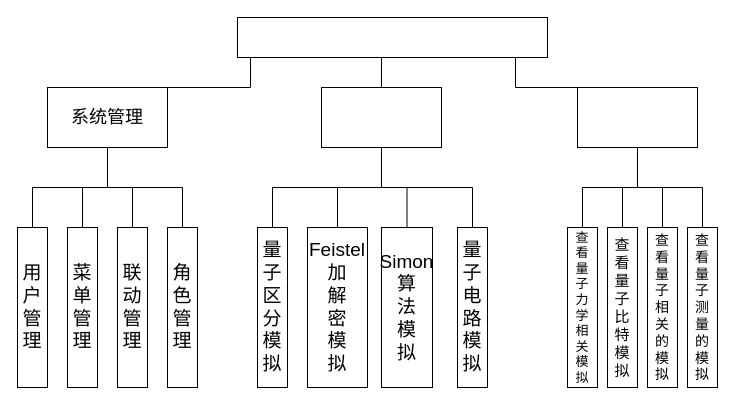
Some shapes in this 735 by 405 pixel diagram are drawn without their labels. The shapes that lost their labels are listed below. From the top down, each one's centre as x and y in pixels, then its label:
At pixel 392 37: "量子仿真实验系统".
At pixel 381 117: "算法模拟".
At pixel 637 117: "量子模拟".
